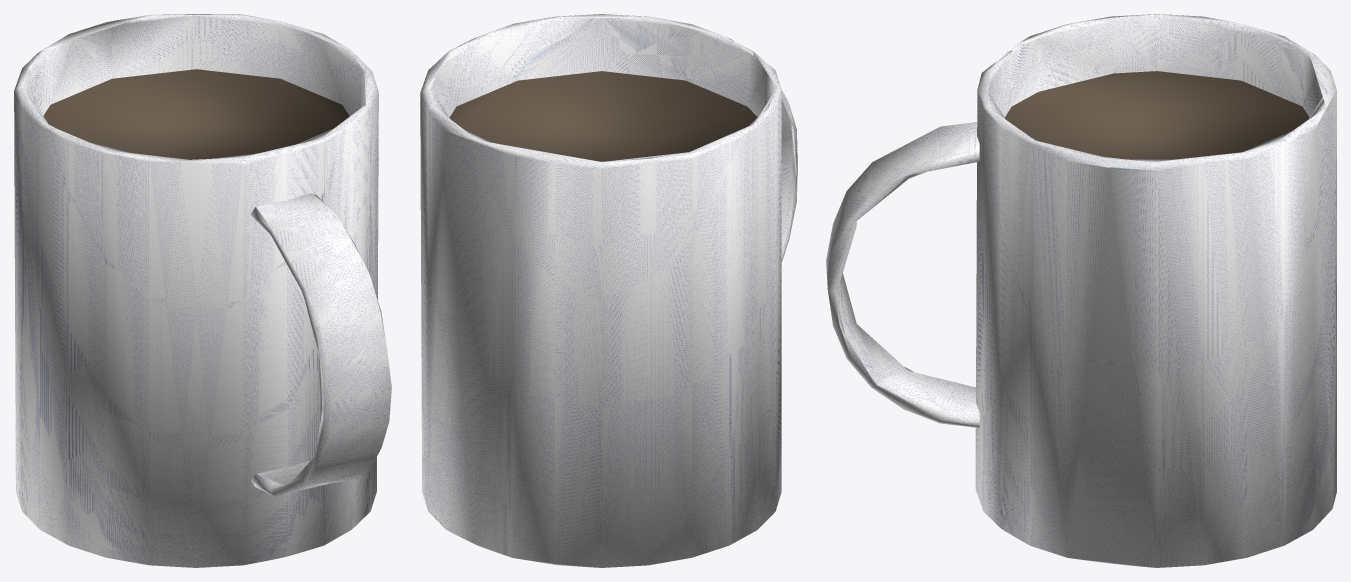
Rendered from CUP.fbx.
The picture shows the model from 3 angles, left to right: view 1: azimuth 30°, elevation 25°; view 2: azimuth 150°, elevation 25°; view 3: azimuth 270°, elevation 25°; orthographic projection.
Visible parts, largest first — view 1: Model; view 2: Model; view 3: Model.
Part boxes in pixels (bbox=[...]): Model: bbox=[14, 14, 391, 567]; Model: bbox=[420, 14, 797, 567]; Model: bbox=[826, 14, 1336, 567].
Bounding box in the file's own units: 0.0821 × 0.1016 × 0.116.
